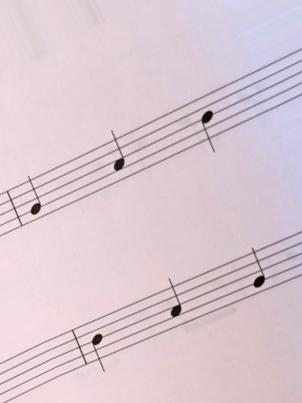A: (106, 126, 131, 185), (163, 278, 187, 336)
B: (194, 93, 222, 158), (86, 316, 113, 379)
G: (245, 246, 270, 299), (25, 173, 49, 225)
